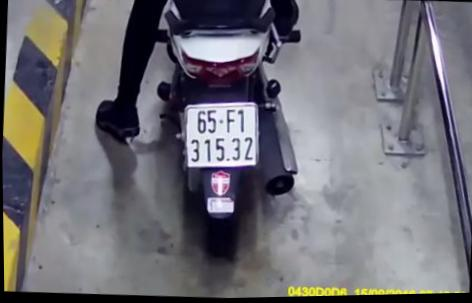LP: (179, 97, 263, 173)
